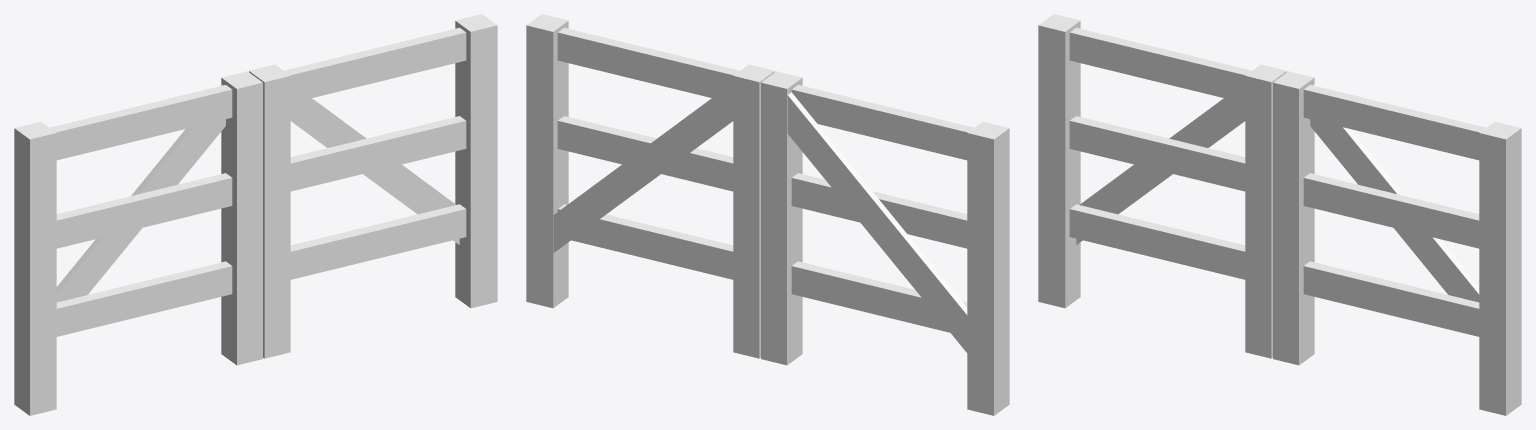
File: Bld_02_Fence_Wood_Gate_Double_Handle_01.glb
3 renders of one model, left to right at view 1: azimuth 30°, elevation 25°; view 2: azimuth 150°, elevation 25°; view 3: azimuth 330°, elevation 25°, orthographic.
Parts seen in each view (by area): view 1: Bld_02_Fence_Wood_Gate_Double_Left_01, Bld_02_Fence_Wood_Gate_Double_Right_01; view 2: Bld_02_Fence_Wood_Gate_Double_Left_01, Bld_02_Fence_Wood_Gate_Double_Right_01; view 3: Bld_02_Fence_Wood_Gate_Double_Right_01, Bld_02_Fence_Wood_Gate_Double_Left_01.
Part boxes in pixels (<box>): Bld_02_Fence_Wood_Gate_Double_Left_01: <box>14,71,262,415</box>; Bld_02_Fence_Wood_Gate_Double_Right_01: <box>249,14,497,358</box>; Bld_02_Fence_Wood_Gate_Double_Left_01: <box>761,71,1009,415</box>; Bld_02_Fence_Wood_Gate_Double_Right_01: <box>526,14,774,358</box>; Bld_02_Fence_Wood_Gate_Double_Right_01: <box>1273,71,1521,415</box>; Bld_02_Fence_Wood_Gate_Double_Left_01: <box>1038,14,1286,358</box>.
Bounding box in the file's own units: 2.44 × 1.38 × 0.1404.
1 material, 1 textured.
